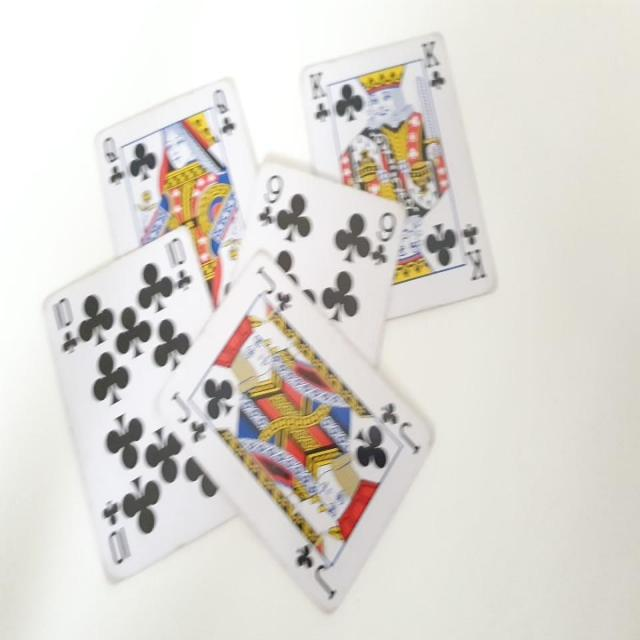10 Trefoils: (41, 226, 244, 581)
9 Trefoils: (240, 152, 409, 367)
J Trefoils: (153, 248, 433, 612)
K Trefoils: (295, 31, 500, 319)
Q Trefoils: (94, 78, 258, 302)
